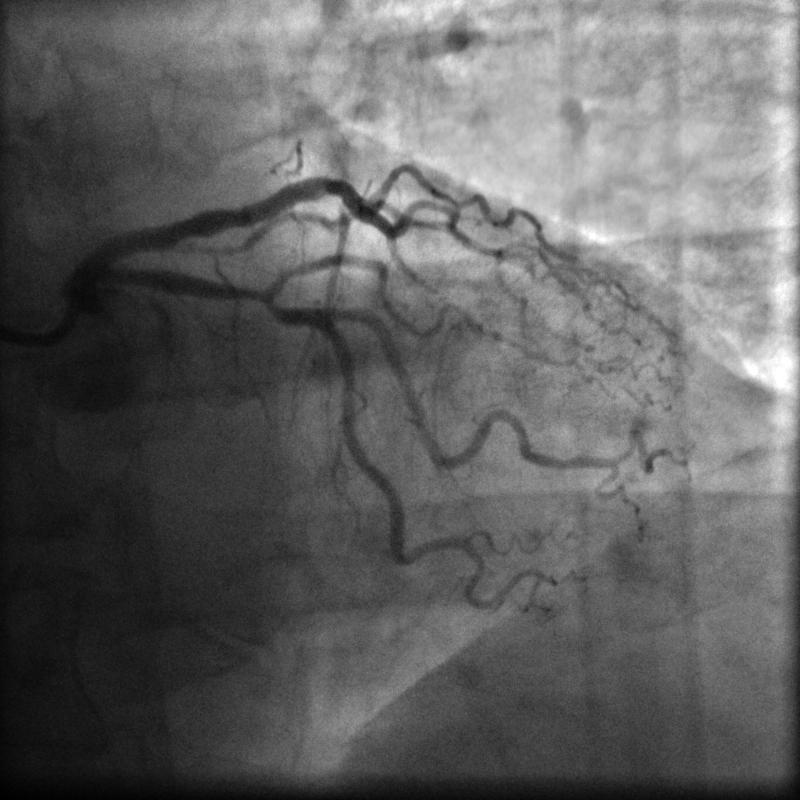Stenosis: (231, 281, 276, 313)
